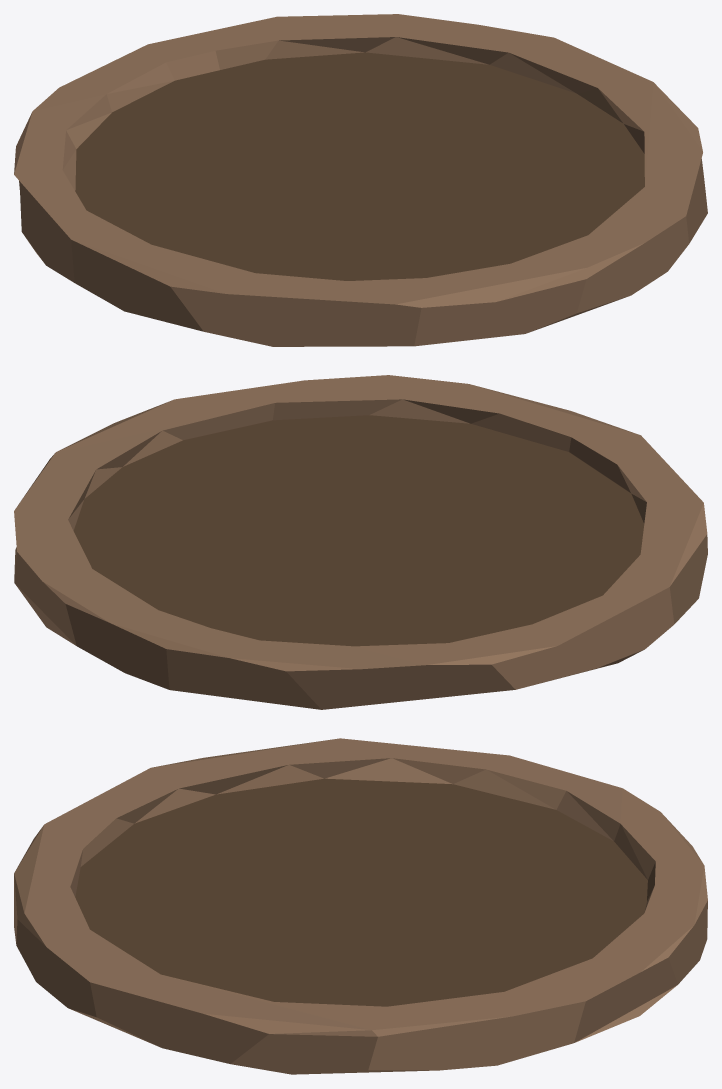
Rendered from CuttingBoardRound.fbx.
3 renders of one model, top to bottom at view 1: azimuth 30°, elevation 25°; view 2: azimuth 150°, elevation 25°; view 3: azimuth 270°, elevation 25°, orthographic.
Visible parts, largest first — view 1: CuttingBoardRoundLowPoly; view 2: CuttingBoardRoundLowPoly; view 3: CuttingBoardRoundLowPoly.
Part boxes in pixels (bbox=[...]): CuttingBoardRoundLowPoly: bbox=[14, 14, 707, 346]; CuttingBoardRoundLowPoly: bbox=[14, 375, 707, 709]; CuttingBoardRoundLowPoly: bbox=[14, 738, 707, 1074].
Size of the model in its own units: 29.8 by 2.21 by 29.73.
